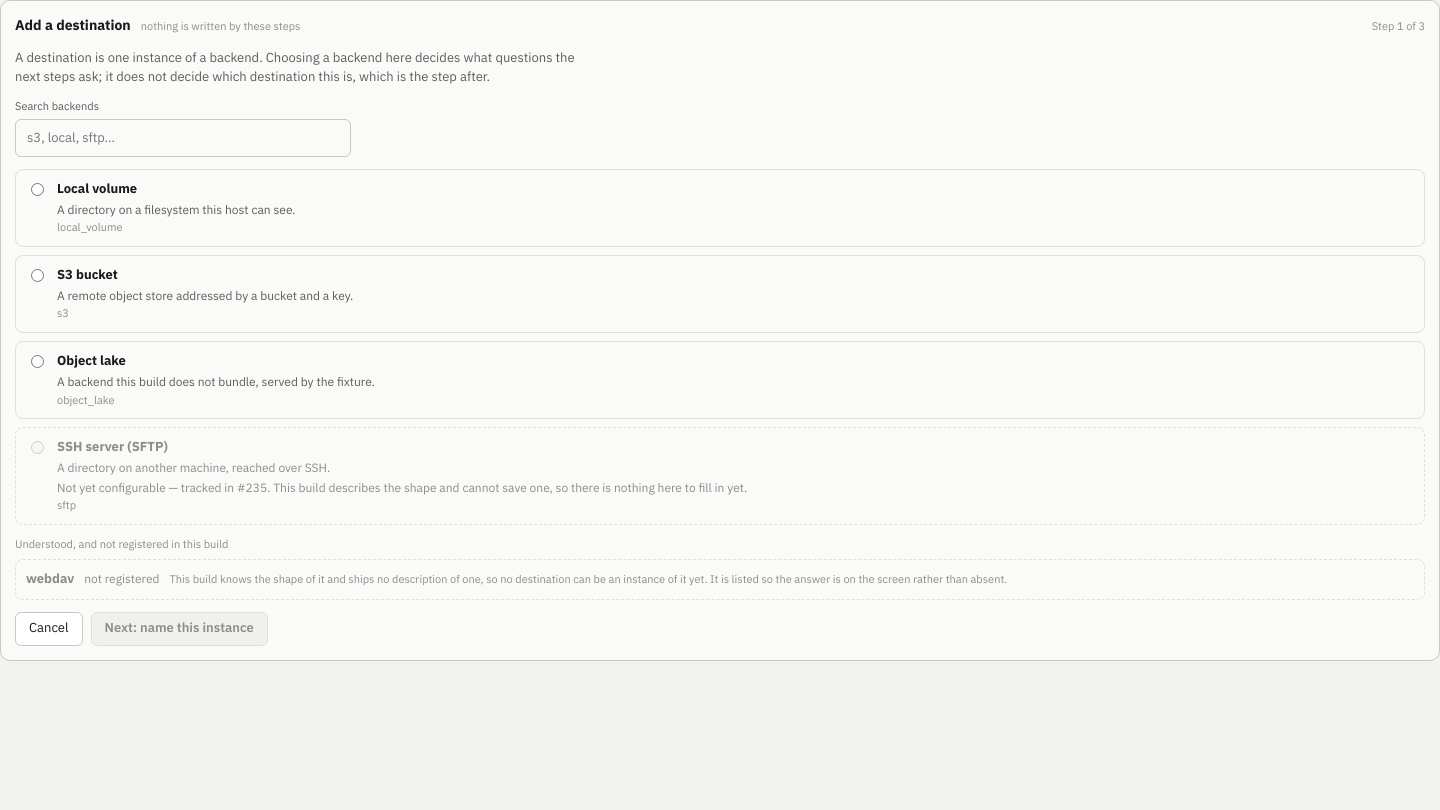
Test case: choosing a backend (#668 step 1) › filters the list without inventing entries
Expected: the radio button labelled "Local volume" is shown, [31, 183, 44, 196]
Type "lake" into the field labelled "Search backends" at (183, 138), box [15, 119, 351, 157]
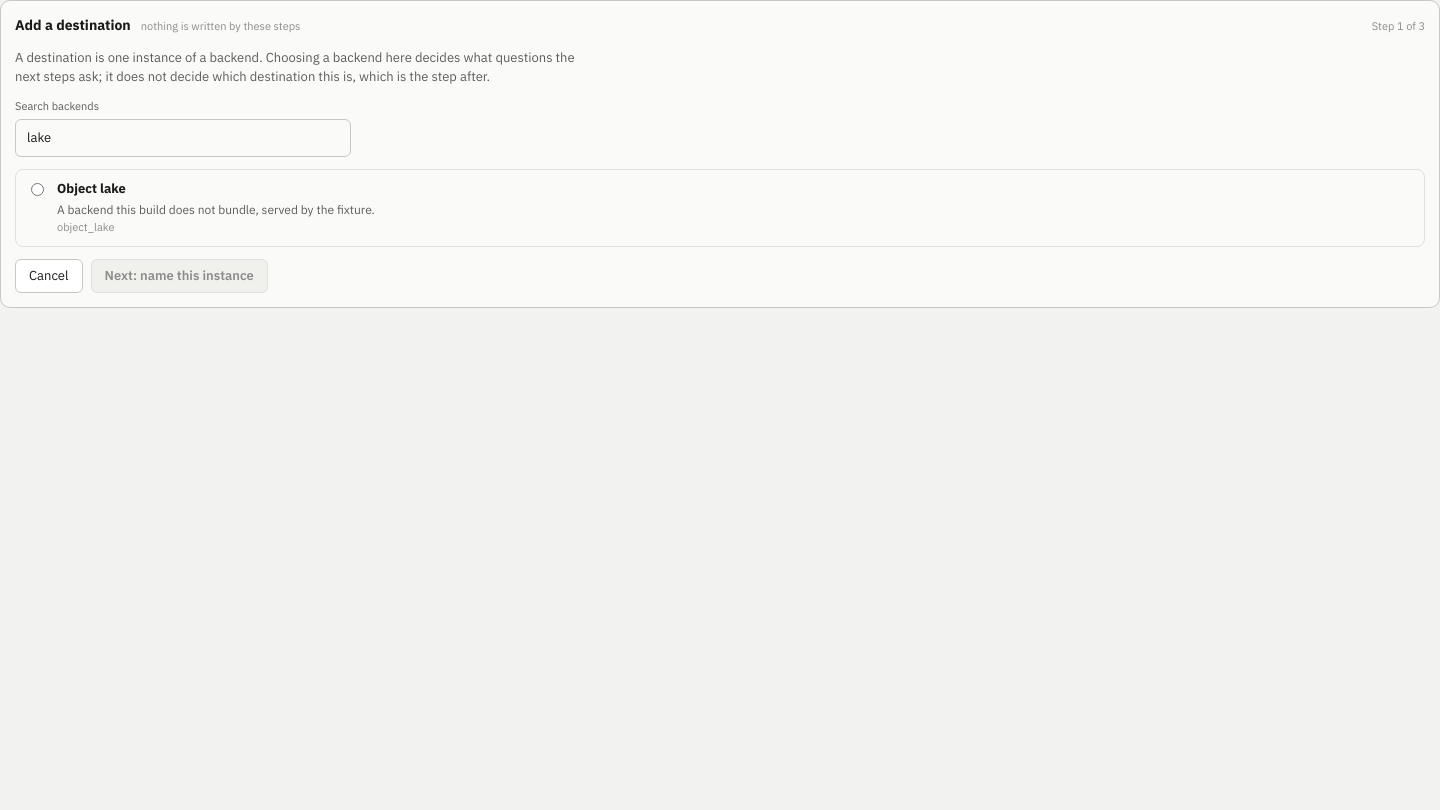
Expected: the radio button labelled "Object lake" is shown, [31, 183, 44, 196]
Now the text "S3 bucket" is gone
